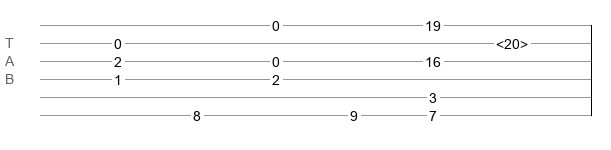0: (114, 36, 122, 46), (272, 54, 280, 64), (272, 18, 280, 28)
1: (114, 72, 122, 82)
16: (425, 54, 441, 64)
19: (425, 18, 441, 28)
2: (114, 54, 122, 64), (272, 72, 280, 82)
3: (429, 90, 437, 100)
7: (429, 108, 437, 118)
8: (193, 108, 201, 118)
9: (350, 108, 358, 118)
harmonic: (496, 36, 528, 46)
